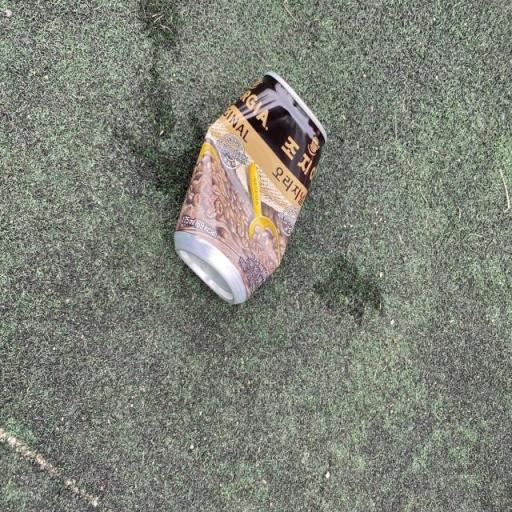metal: (152, 50, 342, 328)
